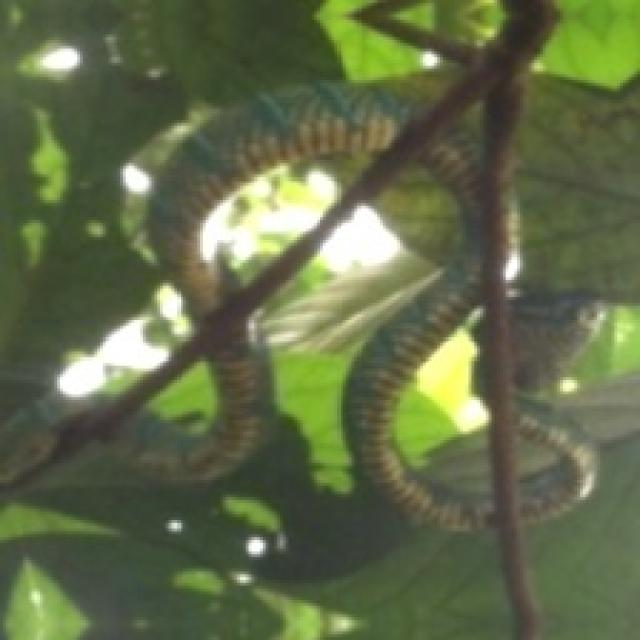north ph temple pitviper: (254, 140, 489, 526), (146, 100, 383, 314), (186, 334, 257, 474), (520, 423, 589, 514)
